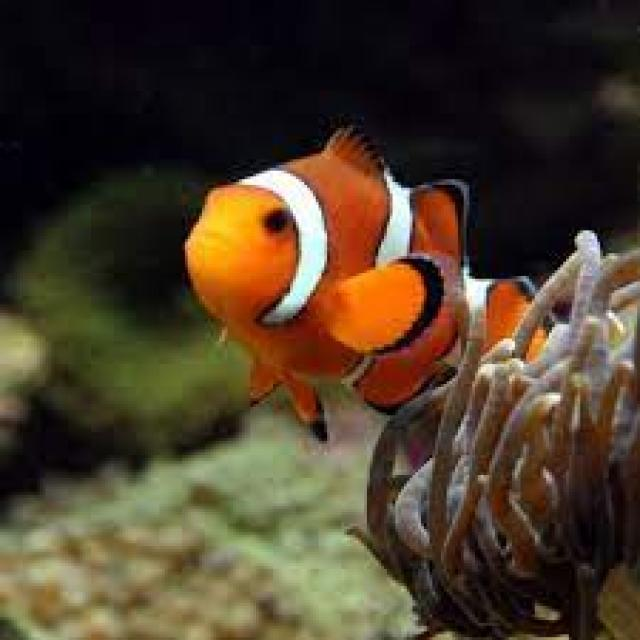ClownFish: (186, 111, 568, 439)
